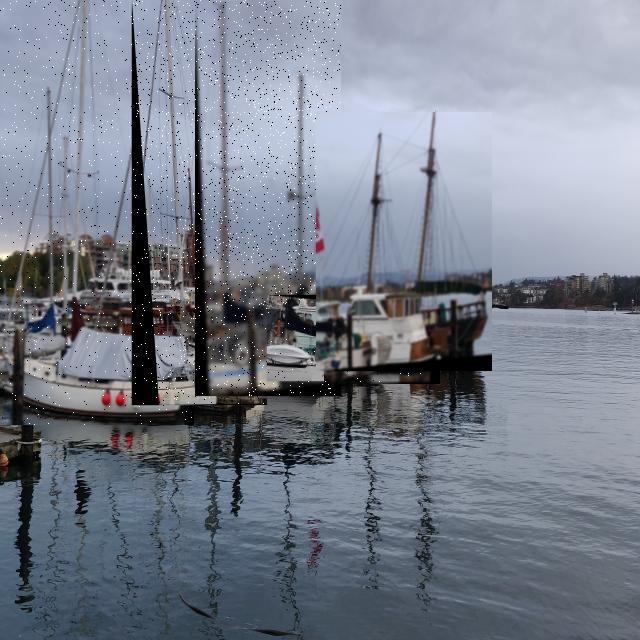boat: (0, 0, 194, 425), (195, 1, 341, 396), (132, 0, 267, 405), (316, 112, 492, 371), (324, 290, 440, 384), (267, 295, 392, 381)
